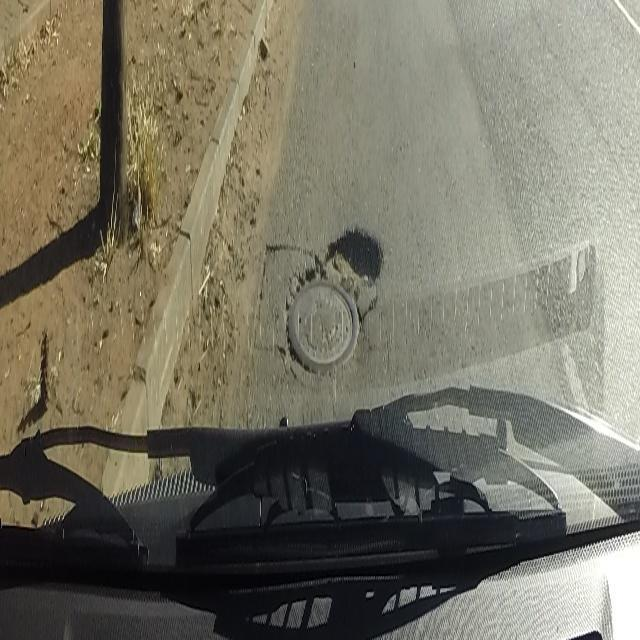pothole: (323, 215, 384, 332)
